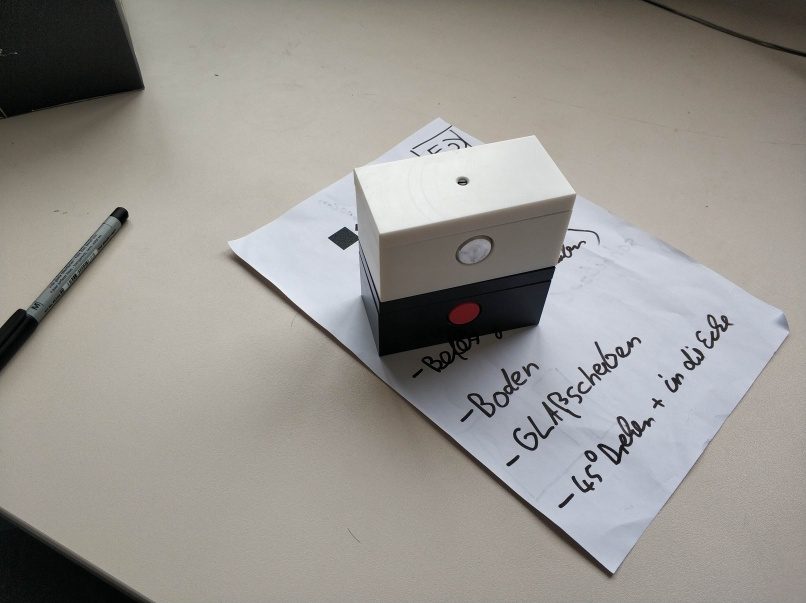black+black+red: (358, 241, 557, 359)
white+white+silver: (353, 131, 578, 305)
